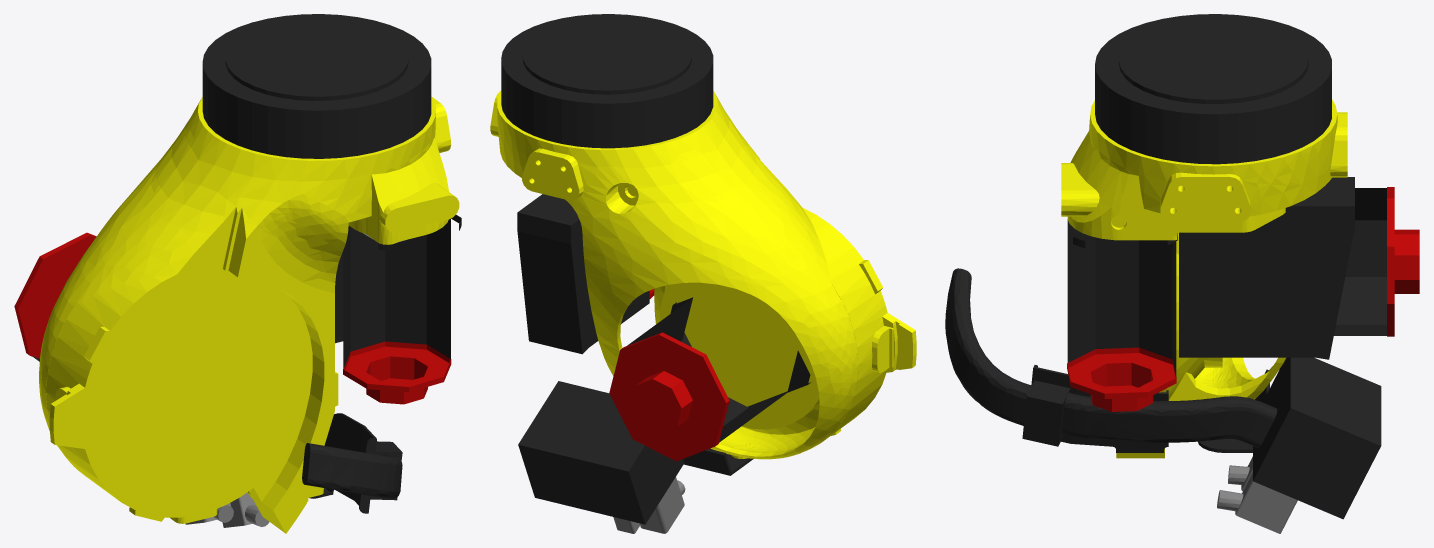
3 views of the same model, side by side, from view 1: azimuth 30°, elevation 25°; view 2: azimuth 150°, elevation 25°; view 3: azimuth 270°, elevation 25° (orthographic). The views are drawn at different scales.
Visible parts, largest first — view 1: node; view 2: node; view 3: node.
Boxes of the visible parts, x1,y1,x2,y2 form: node: (14,14,461,533); node: (490,14,916,533); node: (945,14,1419,533).
Size of the model in its own units: 601 by 675 by 585.
